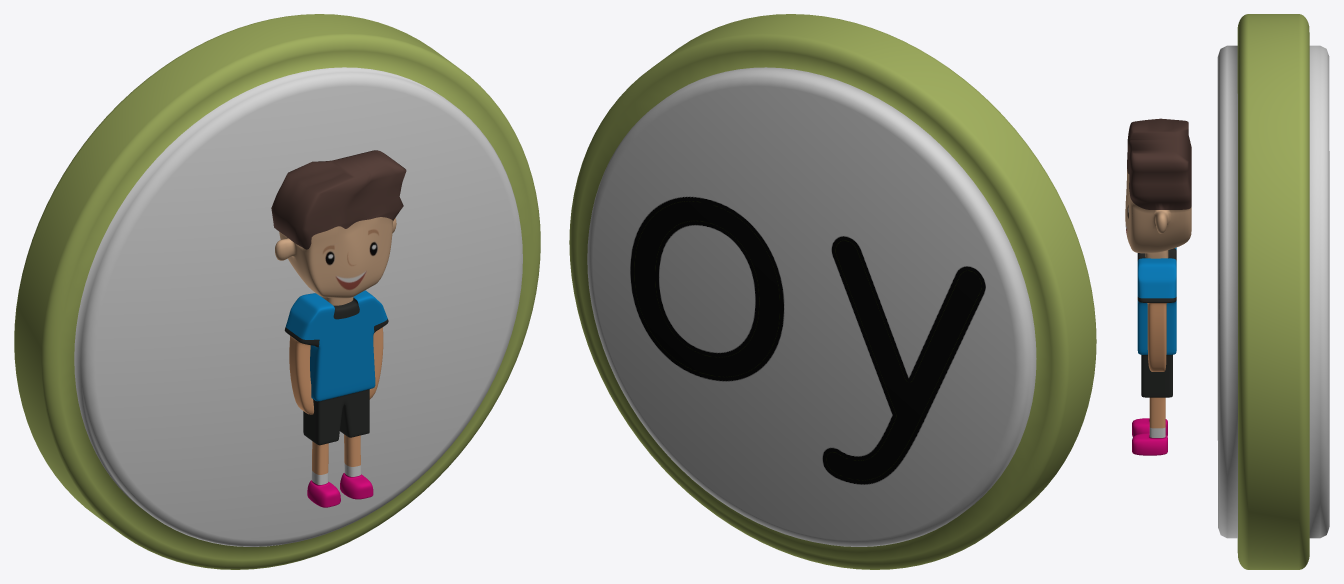
File: boy3.gltf
3 renders of one model, left to right at view 1: azimuth 30°, elevation 25°; view 2: azimuth 150°, elevation 25°; view 3: azimuth 270°, elevation 25°, orthographic. The views are drawn at different scales.
Parts seen in each view (by area): view 1: coin, face.003, Cube.000; view 2: coin; view 3: coin, face.003, Cube.000.
Boxes of the visible parts, x1,y1,x2,y2 form: coin: [14, 14, 540, 569]; face.003: [271, 150, 406, 305]; Cube.000: [284, 290, 388, 507]; coin: [569, 14, 1096, 569]; coin: [1217, 14, 1329, 569]; face.003: [1125, 118, 1191, 258]; Cube.000: [1132, 247, 1176, 455].
Size of the model in its own units: 2.56 by 2.56 by 0.939.
Materials: 10 (2 with a texture image).
